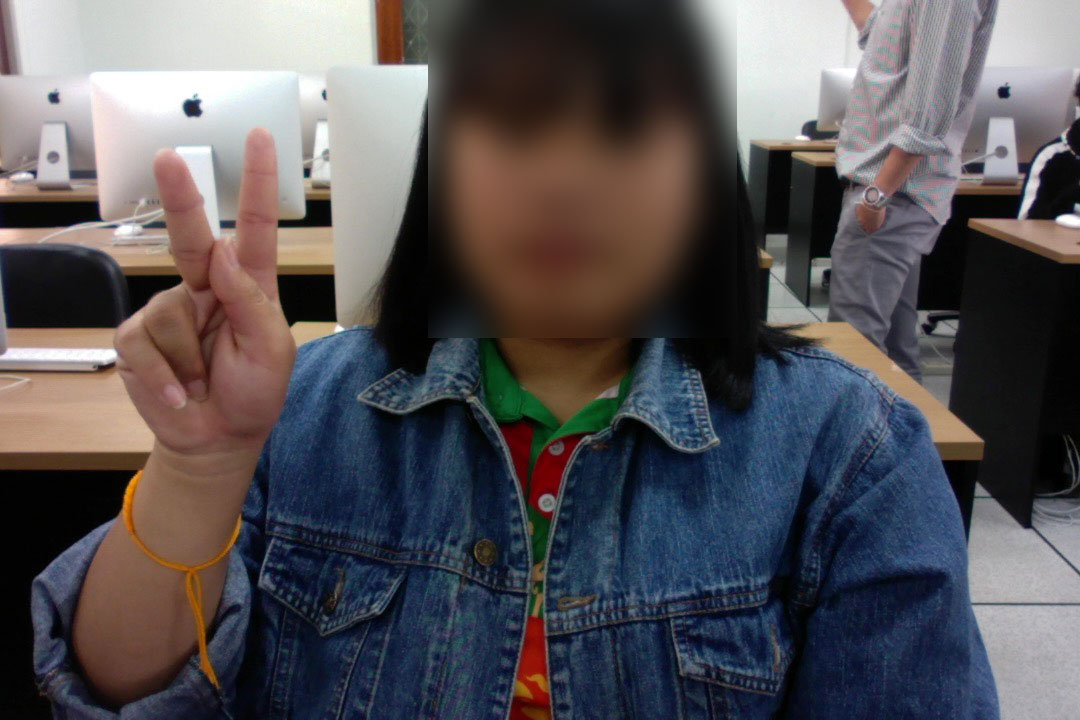ko: (110, 118, 298, 460)
